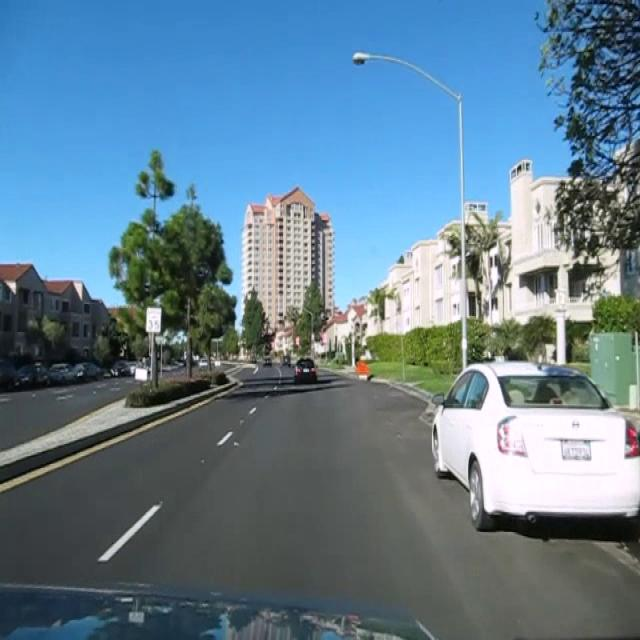speedLimit35: (145, 307, 161, 332)
